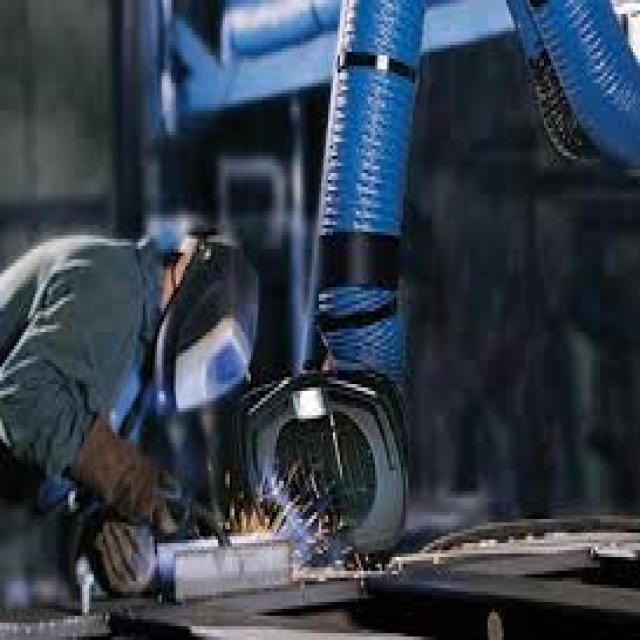with_helmet: (152, 244, 263, 425)
